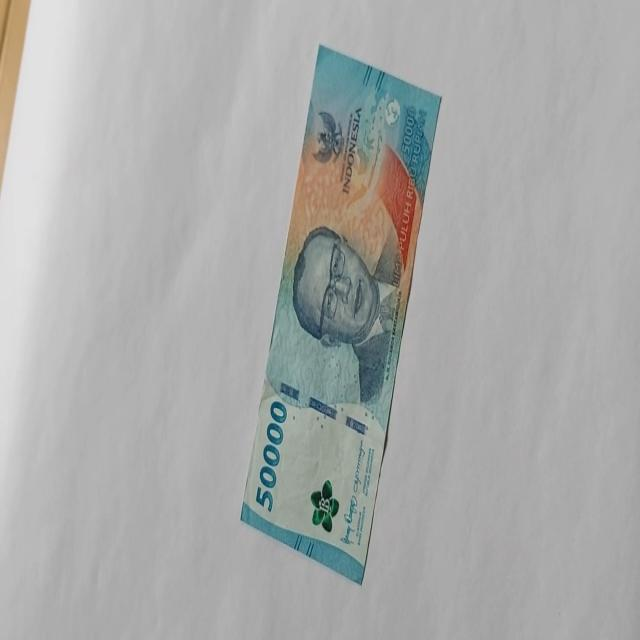lima puluh ribu rupiah: (239, 43, 443, 585)
